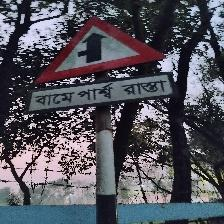Side-road-left: (26, 15, 176, 116)
